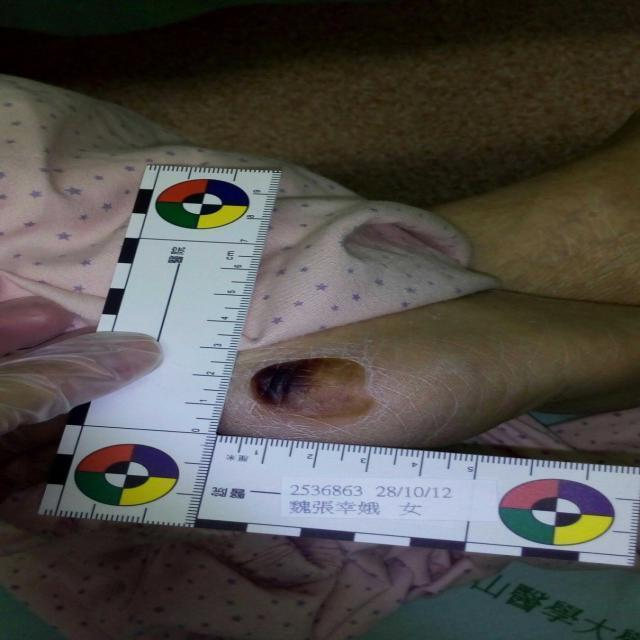DTI: (251, 356, 382, 423)
